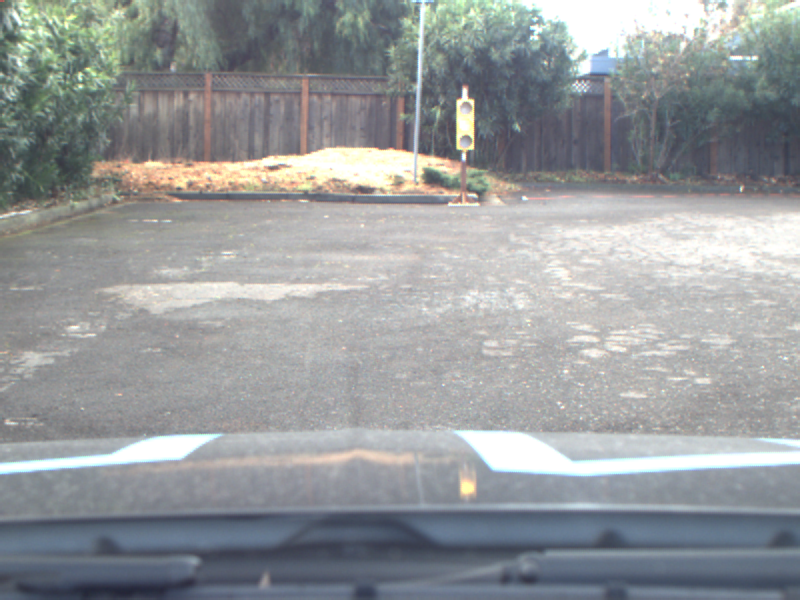Yellow: (455, 98, 475, 150)
